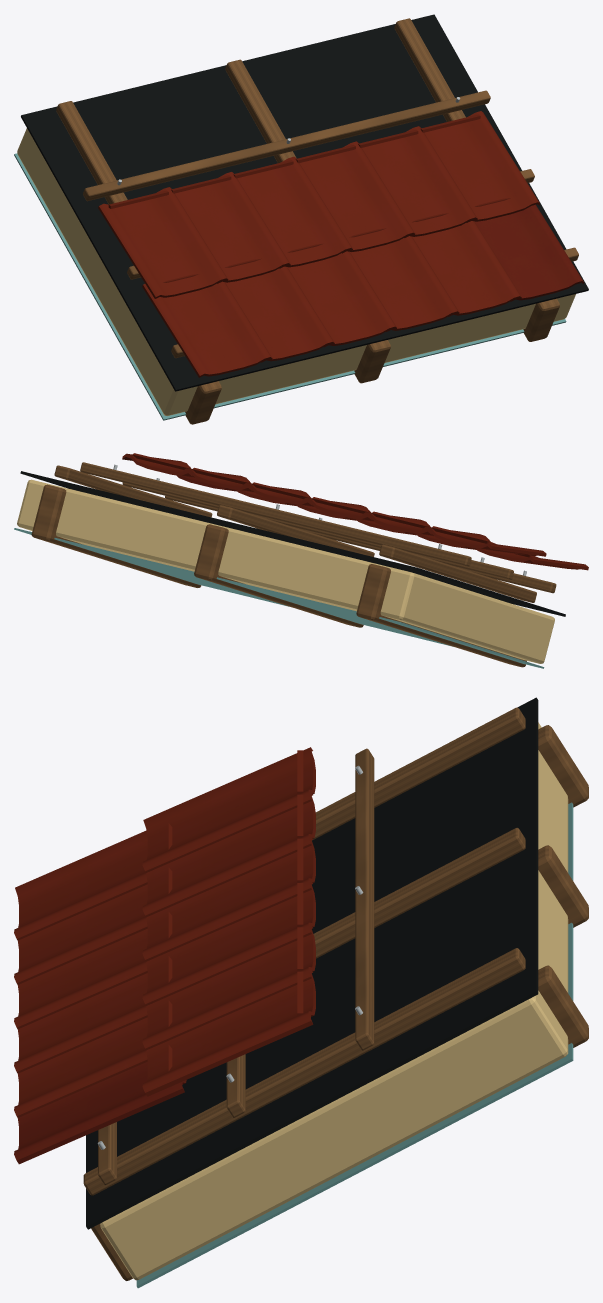
The model's file is modell.glb.
The picture shows the model from 3 angles, top to bottom: view 1: azimuth 30°, elevation 25°; view 2: azimuth 150°, elevation 25°; view 3: azimuth 270°, elevation 25°; orthographic projection. The views are drawn at different scales.
Parts seen in each view (by area): view 1: s01-deckziegel_deckung, s01-zusatzebene_zusatzebene, s01-daemmung_daemmung, s01-lattung_lattung, s01-deckziegel_deckung.001, s01-sparren_tragwerk, s01-luftdichtheit_luftdichtheit; view 2: s01-daemmung_daemmung, s01-lattung_lattung, s01-deckziegel_deckung, s01-sparren_tragwerk, s01-luftdichtheit_luftdichtheit, s01-zusatzebene_zusatzebene; view 3: s01-deckziegel_deckung, s01-zusatzebene_zusatzebene, s01-daemmung_daemmung, s01-lattung_lattung, s01-deckziegel_deckung.001, s01-sparren_tragwerk, s01-luftdichtheit_luftdichtheit.
Part boxes in pixels (x1,y1,x2,y2): s01-deckziegel_deckung: [98, 111, 539, 377]; s01-zusatzebene_zusatzebene: [21, 14, 588, 391]; s01-daemmung_daemmung: [17, 128, 575, 415]; s01-lattung_lattung: [56, 18, 578, 358]; s01-deckziegel_deckung.001: [474, 204, 584, 301]; s01-sparren_tragwerk: [185, 298, 559, 424]; s01-luftdichtheit_luftdichtheit: [14, 153, 566, 420]; s01-daemmung_daemmung: [17, 479, 554, 663]; s01-lattung_lattung: [54, 462, 556, 602]; s01-deckziegel_deckung: [122, 453, 588, 570]; s01-sparren_tragwerk: [31, 484, 526, 667]; s01-luftdichtheit_luftdichtheit: [14, 528, 544, 668]; s01-zusatzebene_zusatzebene: [20, 471, 565, 616]; s01-deckziegel_deckung: [14, 747, 315, 1117]; s01-zusatzebene_zusatzebene: [86, 697, 538, 1229]; s01-daemmung_daemmung: [100, 722, 568, 1280]; s01-lattung_lattung: [83, 707, 525, 1195]; s01-deckziegel_deckung.001: [14, 1062, 186, 1164]; s01-sparren_tragwerk: [91, 725, 588, 1280]; s01-luftdichtheit_luftdichtheit: [136, 802, 573, 1288].
Size of the model in its own units: 1.59 by 0.8176 by 1.32.
7 materials, 3 textured.
